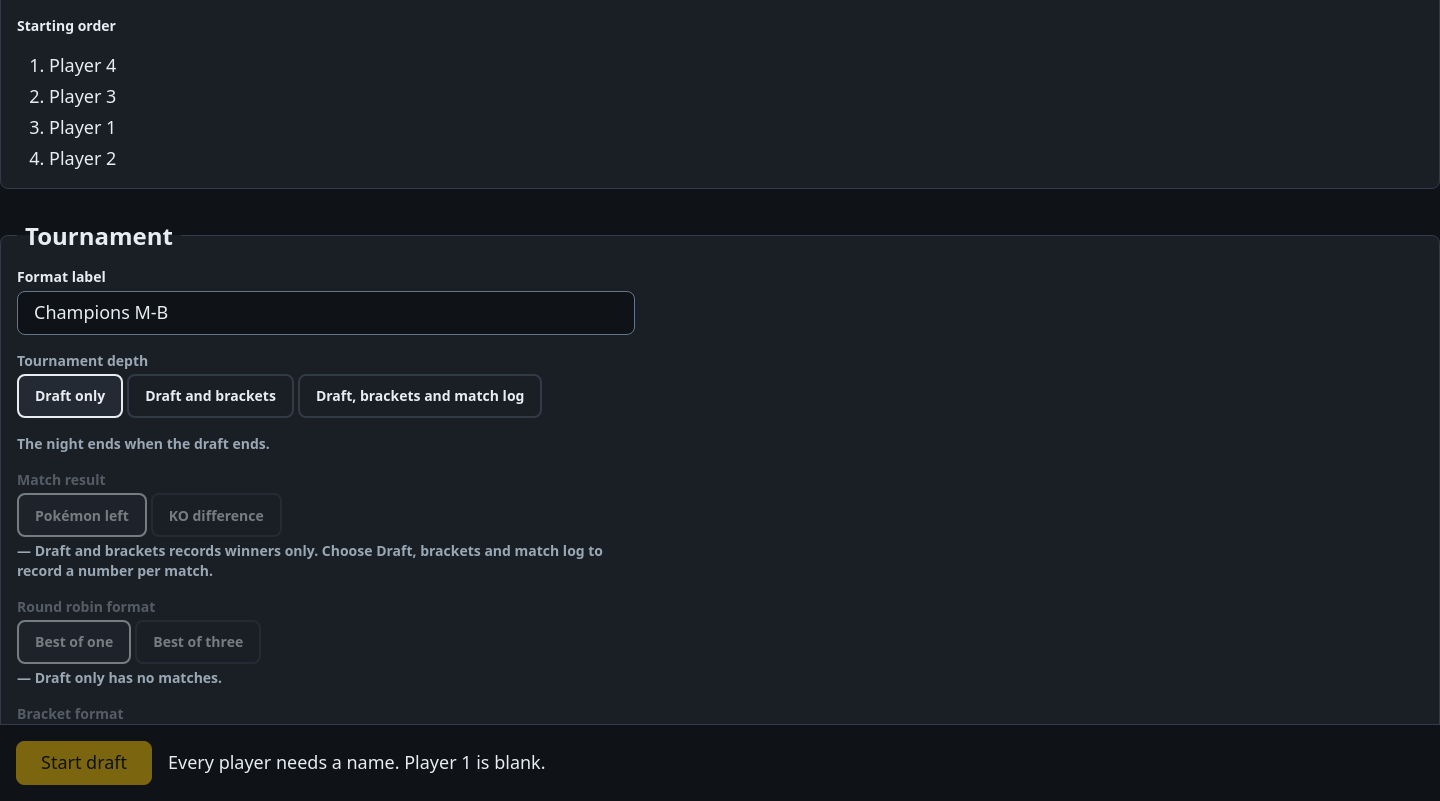
the depth note › names the three stages and the absence of scores at Draft and brackets
(page scrolled)
What coordinates should you click on to do the following:
click the radio button labelled "Draft and brackets"
I would click on:
 (210, 396)
Its box is [127,374,294,418].
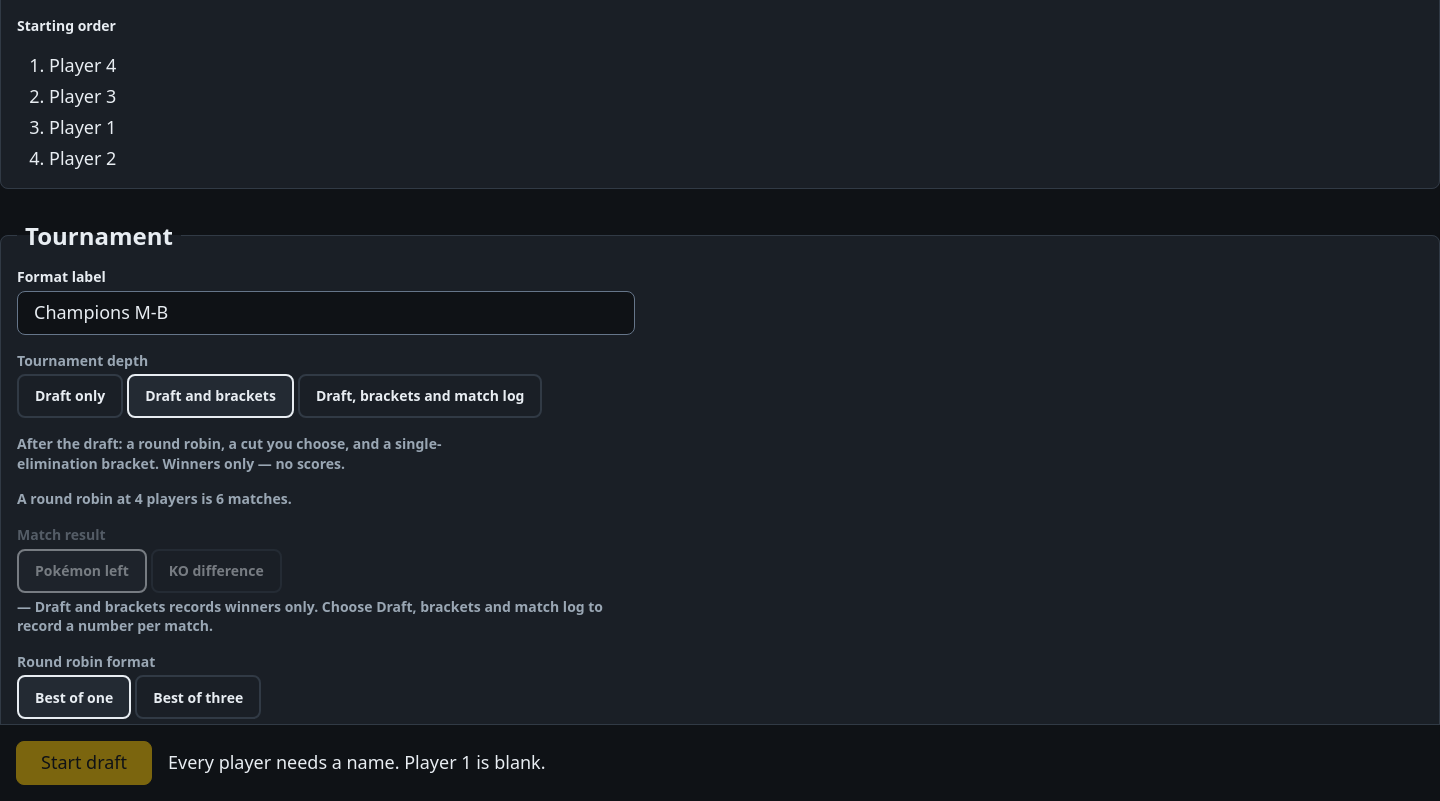
Expected: the text "After the draft: a round robin, a cut you choose, and a single-elimination bracket. Winners only — no scores." is shown, [17,434,441,473]
Expected: the text "The night ends when the draft ends." is gone
